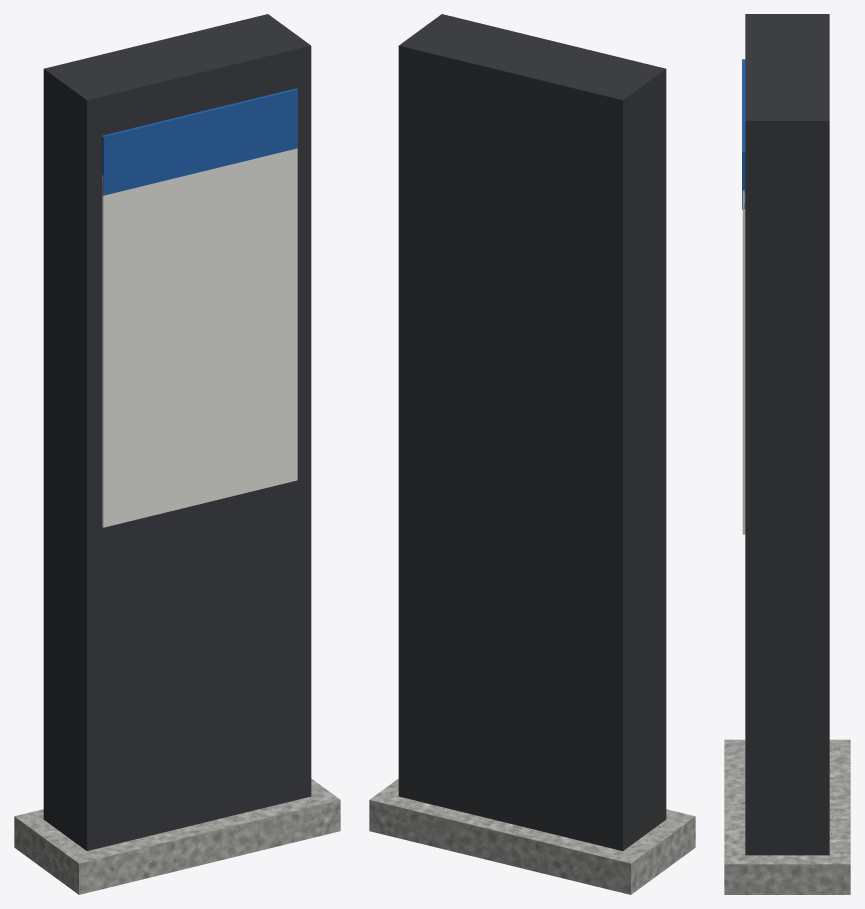
3 renders of one model, left to right at view 1: azimuth 30°, elevation 25°; view 2: azimuth 150°, elevation 25°; view 3: azimuth 270°, elevation 25°, orthographic. The views are drawn at different scales.
Visible parts, largest first — view 1: baseOffset=0;depth=0.2;height=2;material=sign_plate;power=;s (×4); view 2: baseOffset=0;depth=0.2;height=2;material=sign_plate;power=;s (×2); view 3: baseOffset=0;depth=0.2;height=2;material=sign_plate;power=;s (×4).
Boxes of the visible parts, x1=… form: baseOffset=0;depth=0.2;height=2;material=sign_plate;power=;s (×4): x1=14, y1=14, x2=340, y2=894; baseOffset=0;depth=0.2;height=2;material=sign_plate;power=;s (×2): x1=369, y1=14, x2=695, y2=894; baseOffset=0;depth=0.2;height=2;material=sign_plate;power=;s (×4): x1=724, y1=14, x2=850, y2=894.
Bounding box in the file's own units: 0.7 × 0.3 × 2.
4 materials, 1 textured.
